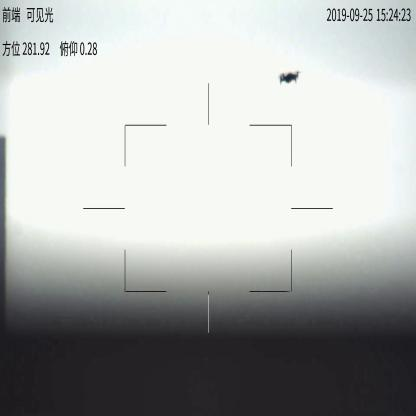uav: (278, 70, 300, 86)
